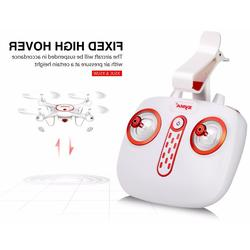drone: (16, 89, 111, 133)
